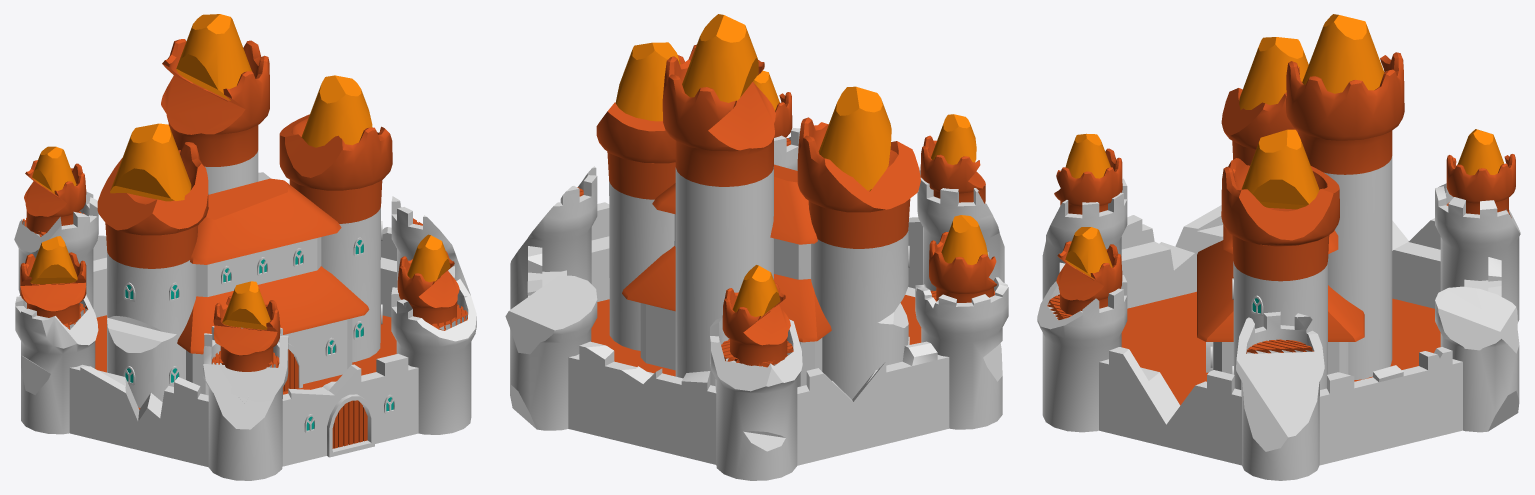
Rendered from Hex_Castle_UpgradeDouble_Stage2.fbx.
The picture shows the model from 3 angles, left to right: view 1: azimuth 30°, elevation 25°; view 2: azimuth 150°, elevation 25°; view 3: azimuth 270°, elevation 25°; orthographic projection. The views are drawn at different scales.
Parts seen in each view (by area): view 1: Hexagon_Castle_UpgradeDouble_Stage2; view 2: Hexagon_Castle_UpgradeDouble_Stage2; view 3: Hexagon_Castle_UpgradeDouble_Stage2.
Part boxes in pixels (box(x1,y1,x2,y2)): Hexagon_Castle_UpgradeDouble_Stage2: box(14, 14, 476, 480); Hexagon_Castle_UpgradeDouble_Stage2: box(505, 14, 1008, 480); Hexagon_Castle_UpgradeDouble_Stage2: box(1037, 14, 1520, 480).
Bounding box in the file's own units: 1117 × 809 × 1001.
1 material, 1 textured.
